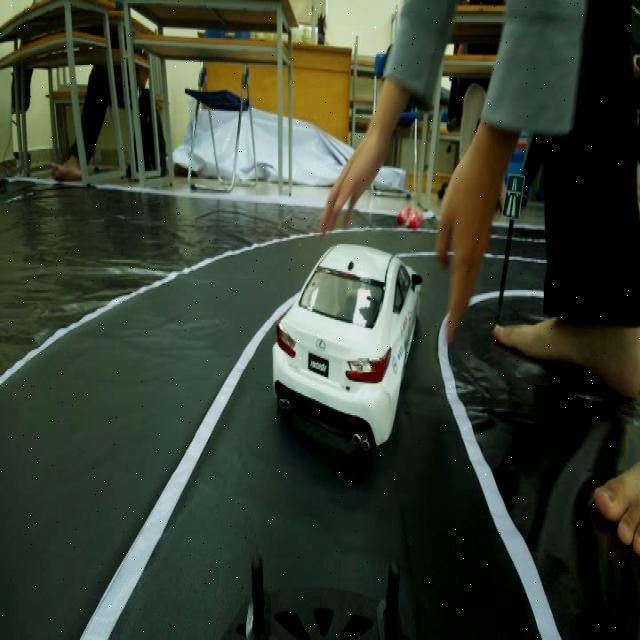car: (268, 209, 424, 467)
highway_entry: (503, 165, 524, 228)
